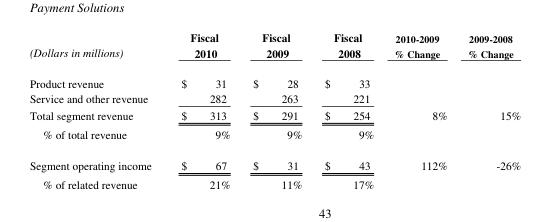table: (28, 29, 520, 191)
table column: (28, 29, 165, 191), (165, 29, 240, 191), (383, 29, 456, 191), (240, 29, 312, 191), (312, 29, 383, 191), (456, 29, 520, 191)
table column header: (28, 29, 520, 67)
table row: (28, 29, 520, 67), (28, 124, 520, 149), (28, 149, 520, 174), (28, 67, 520, 90), (28, 106, 520, 124), (28, 174, 520, 191), (28, 90, 520, 106)
